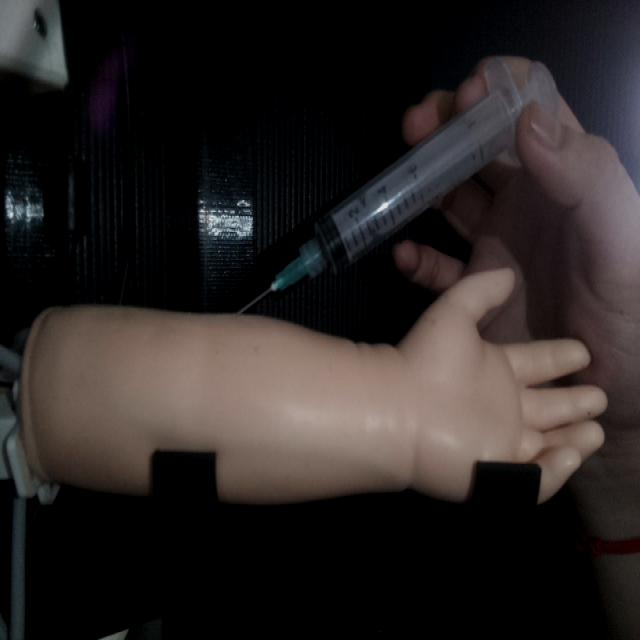Above 30 degrees: (229, 53, 560, 316)
